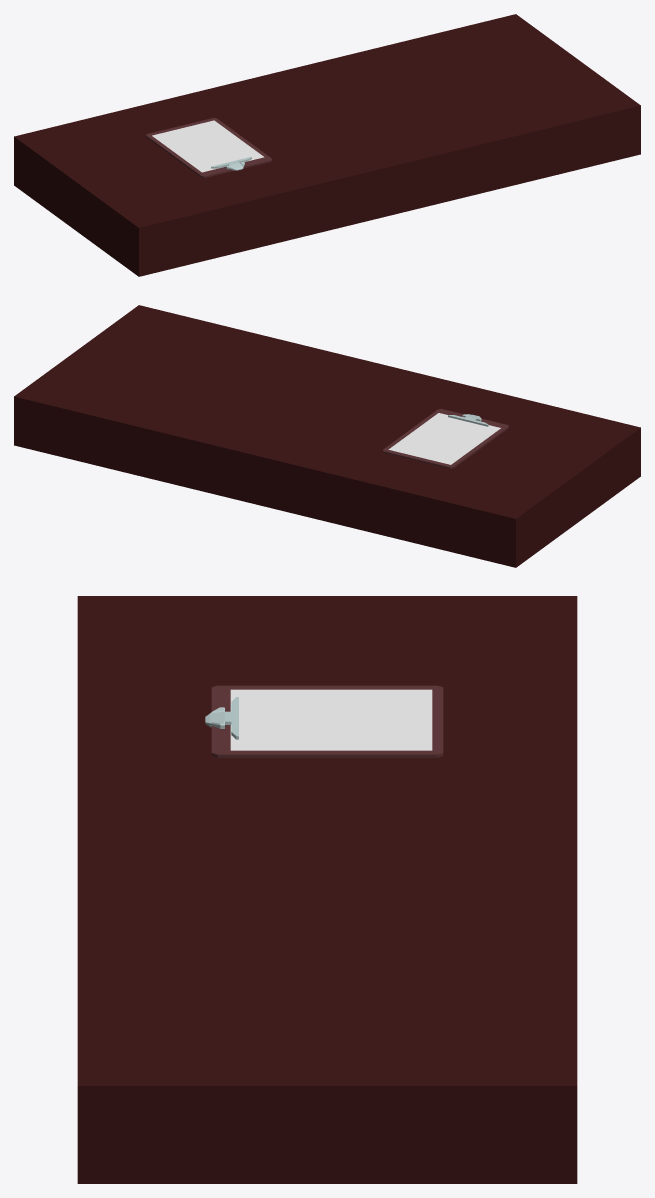
The model's file is Table Test.fbx.
The picture shows the model from 3 angles, top to bottom: view 1: azimuth 30°, elevation 25°; view 2: azimuth 150°, elevation 25°; view 3: azimuth 270°, elevation 25°; orthographic projection. The views are drawn at different scales.
Parts seen in each view (by area): view 1: Cube.001, Cube; view 2: Cube.001, Cube; view 3: Cube.001, Cube.
Part boxes in pixels (x1,y1,x2,y2): Cube.001: (14, 14, 640, 276); Cube: (146, 118, 271, 177); Cube.001: (14, 305, 640, 567); Cube: (383, 409, 508, 468); Cube.001: (77, 596, 577, 1183); Cube: (205, 685, 443, 757).
Bounding box in the file's own units: 2147 × 220 × 926.
